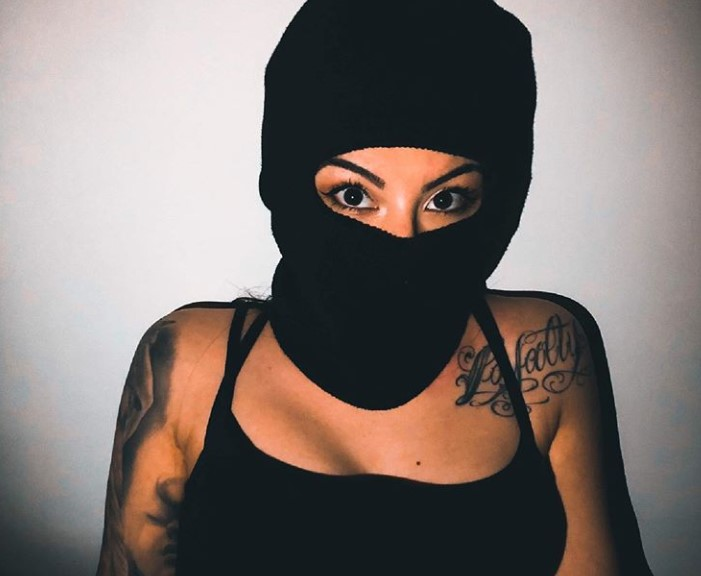face_with_mask: (263, 14, 519, 376)
